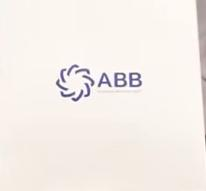ABB: (55, 64, 95, 102)
